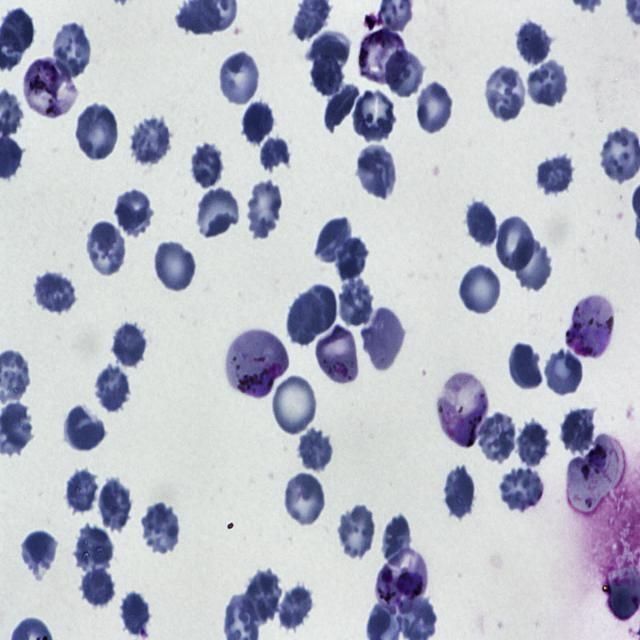difficult: (224, 327, 290, 399), (438, 372, 490, 445)
red blood cell: (270, 372, 318, 438), (361, 304, 406, 372), (75, 100, 120, 162), (350, 88, 398, 142), (50, 19, 91, 82), (485, 64, 528, 124), (282, 471, 327, 528), (336, 501, 378, 562), (494, 214, 537, 273), (218, 48, 261, 106), (85, 219, 127, 278), (512, 234, 554, 293), (458, 261, 502, 317), (153, 238, 197, 294), (195, 187, 240, 240), (356, 143, 397, 200), (139, 501, 181, 556), (500, 464, 546, 514), (526, 56, 569, 109), (242, 570, 284, 624), (286, 291, 327, 346), (32, 268, 78, 316), (64, 402, 106, 453), (314, 216, 355, 268), (416, 79, 454, 135), (300, 281, 338, 337), (128, 116, 172, 164), (544, 346, 586, 396), (20, 526, 60, 578), (384, 49, 428, 96), (248, 179, 283, 238), (98, 477, 134, 533), (443, 464, 478, 521), (514, 16, 553, 67), (478, 413, 518, 462), (115, 186, 154, 236), (73, 524, 112, 574), (463, 197, 499, 251), (110, 320, 148, 370), (534, 152, 575, 198), (296, 423, 335, 471), (64, 466, 101, 516), (324, 82, 361, 132), (516, 418, 552, 469), (507, 342, 543, 392), (337, 278, 374, 326), (278, 584, 315, 630), (309, 52, 345, 98), (382, 514, 411, 568), (95, 364, 129, 410), (562, 407, 596, 453), (334, 236, 370, 279), (119, 590, 151, 638), (190, 142, 224, 187), (243, 98, 274, 146), (304, 33, 350, 65), (82, 565, 116, 607), (260, 134, 292, 172)
trophozoite: (564, 432, 626, 518), (376, 547, 428, 611), (566, 294, 616, 359), (23, 58, 73, 120), (358, 28, 408, 86), (315, 324, 360, 385)
